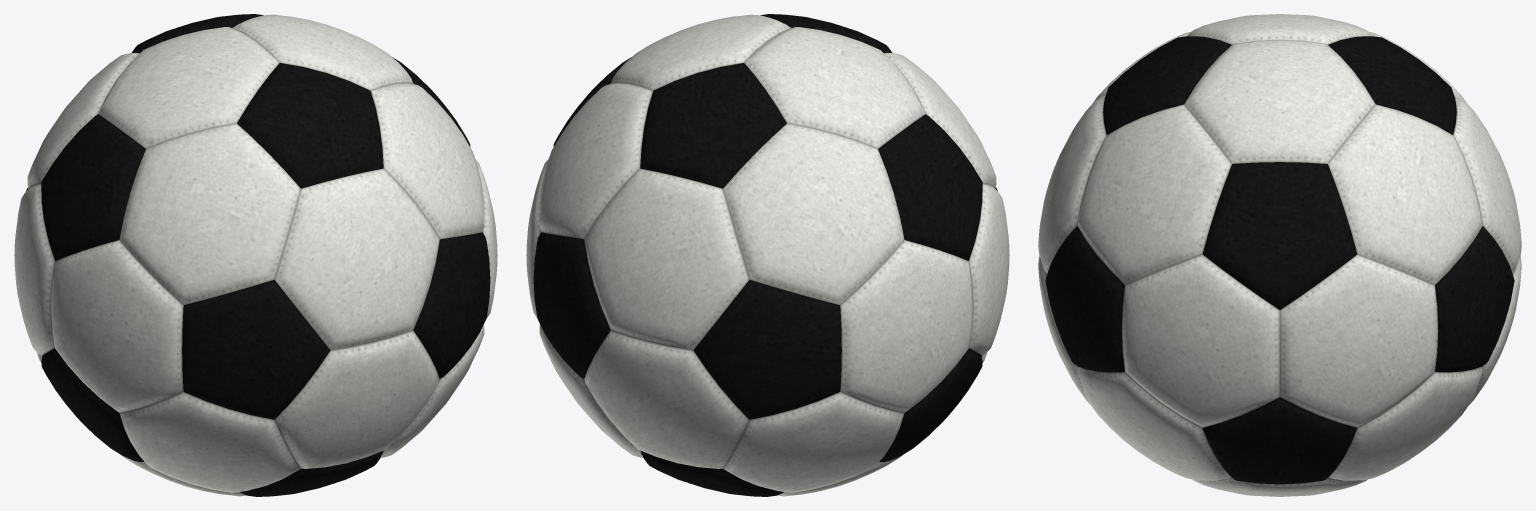
File: soccer-ball-hd.glb
3 renders of one model, left to right at view 1: azimuth 30°, elevation 25°; view 2: azimuth 150°, elevation 25°; view 3: azimuth 270°, elevation 25°, orthographic.
Parts seen in each view (by area): view 1: soccer_ball; view 2: soccer_ball; view 3: soccer_ball.
Part boxes in pixels (x1,y1,x2,y2): soccer_ball: [14, 14, 497, 496]; soccer_ball: [526, 14, 1009, 496]; soccer_ball: [1038, 14, 1521, 496].
Bounding box in the file's own units: 2.1 × 2.1 × 2.1.
Materials: 1 (1 with a texture image).
